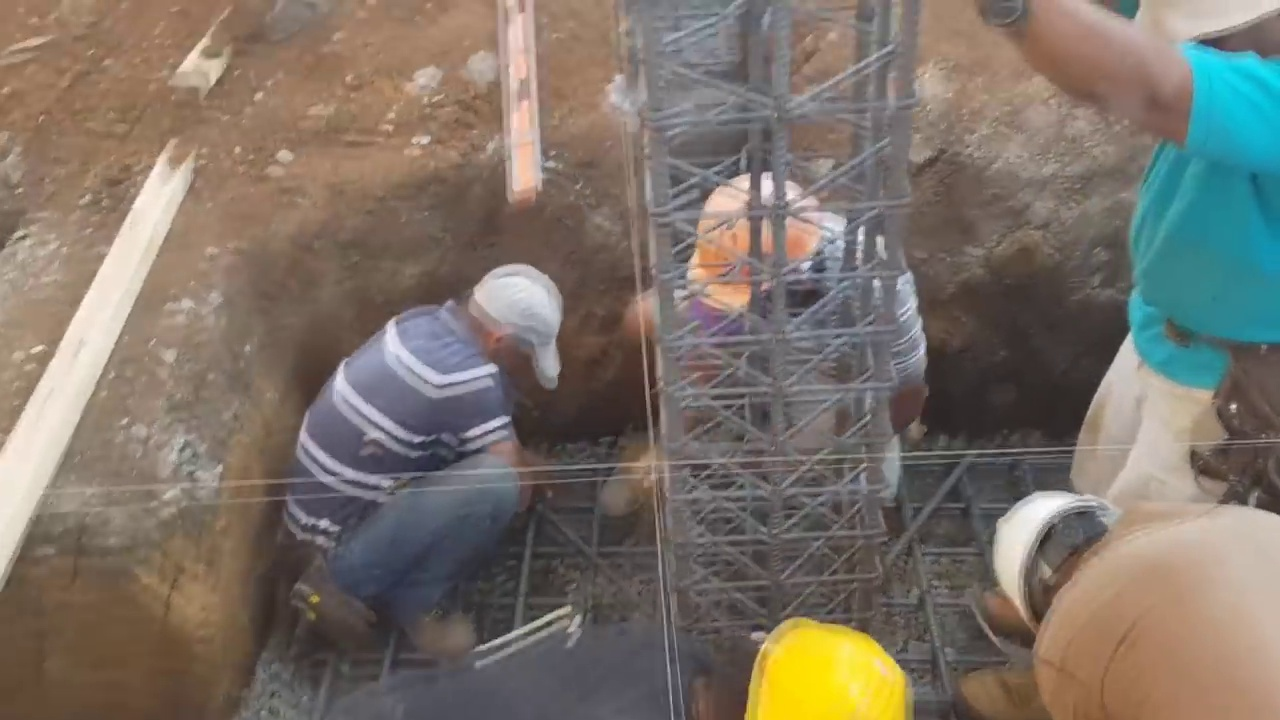helmet: (687, 174, 824, 310), (746, 623, 924, 714), (1000, 495, 1104, 645)
helmet-off: (468, 261, 565, 390)
helmet-on: (686, 167, 850, 334), (675, 621, 927, 714)
person: (1009, 0, 1280, 571), (598, 167, 931, 539), (287, 251, 557, 671), (981, 502, 1279, 720), (334, 610, 934, 717)
